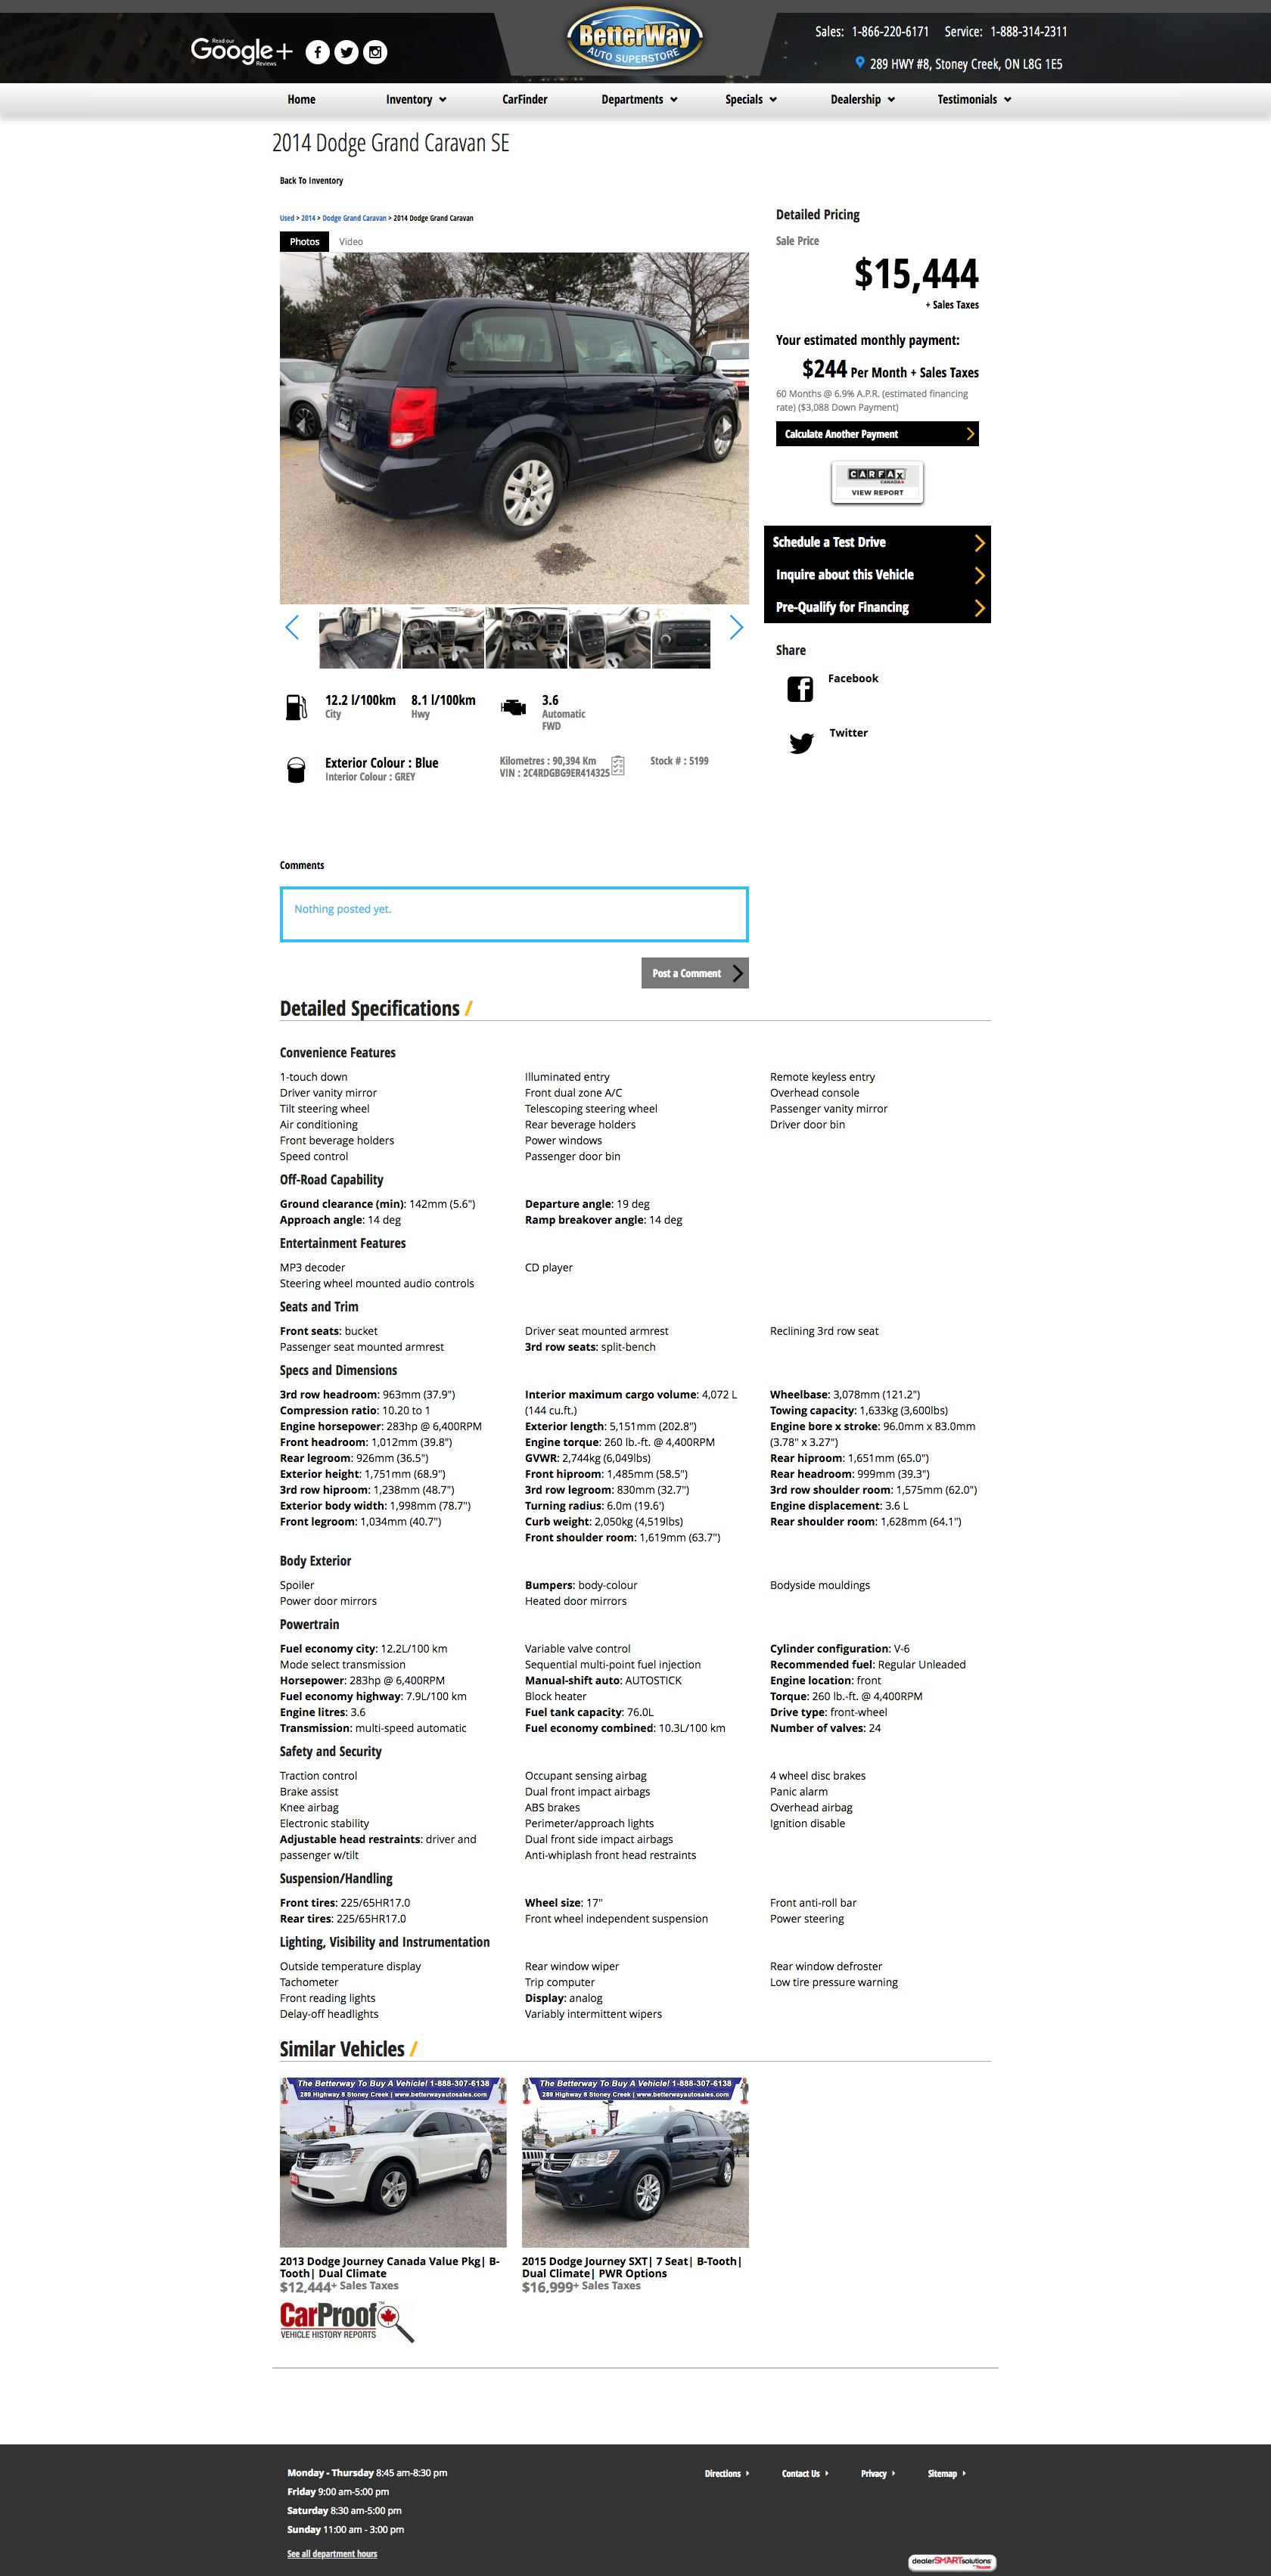car: (730, 614, 745, 641)
